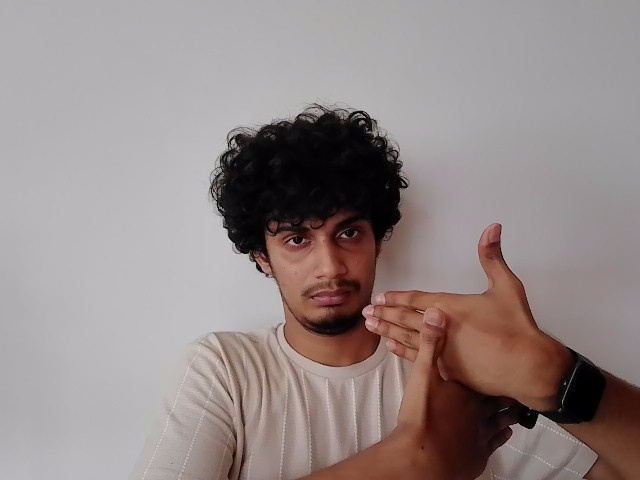work: (361, 225, 530, 475)
